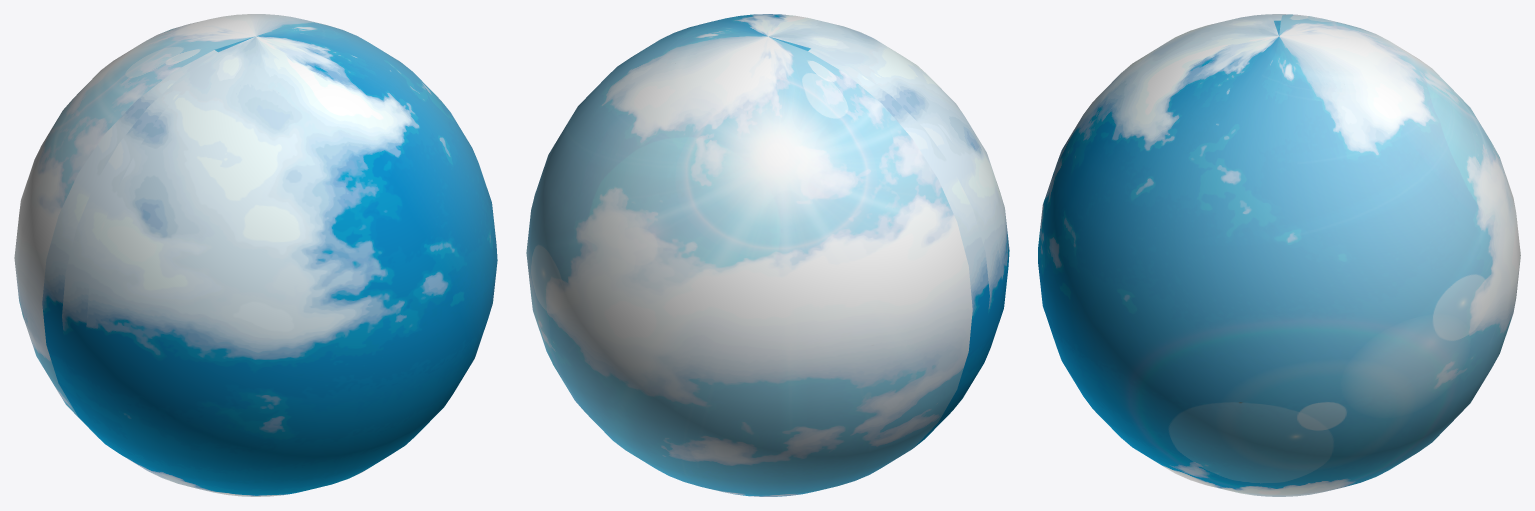
The model's file is Sky(Sphere).obj.
3 views of the same model, side by side, from view 1: azimuth 30°, elevation 25°; view 2: azimuth 150°, elevation 25°; view 3: azimuth 270°, elevation 25° (orthographic).
Parts seen in each view (by area): view 1: 球; view 2: 球; view 3: 球.
Part boxes in pixels (box(x1,y1,x2,y2)): 球: box(14, 14, 497, 496); 球: box(526, 14, 1009, 496); 球: box(1038, 14, 1520, 496).
Size of the model in its own units: 34.95 by 34.97 by 34.92.
1 material, 1 textured.
